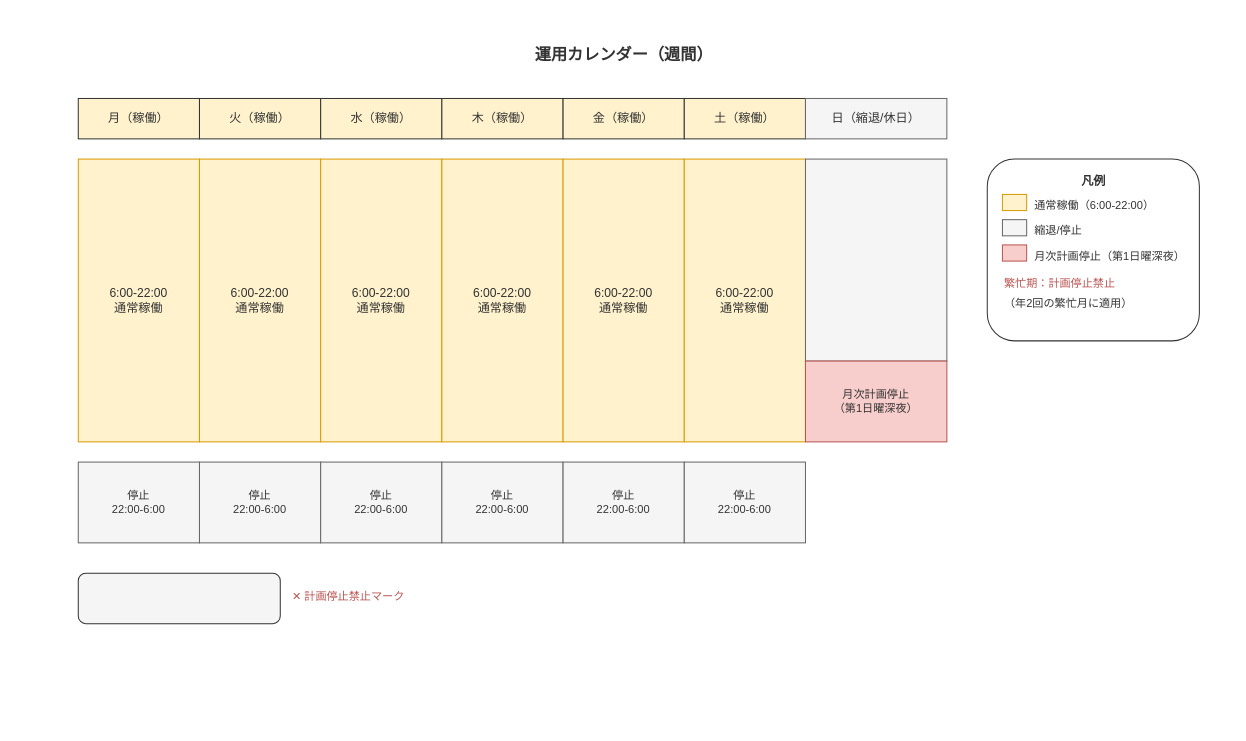
Some shapes in this 1246 by 741 pixel diagram are drawn without their labels. Each missing label, with the box of its shape:
縮退運用可 （休日）: (804, 158, 947, 361)
繁忙期（年2回） 計画停止禁止: (77, 572, 280, 624)
